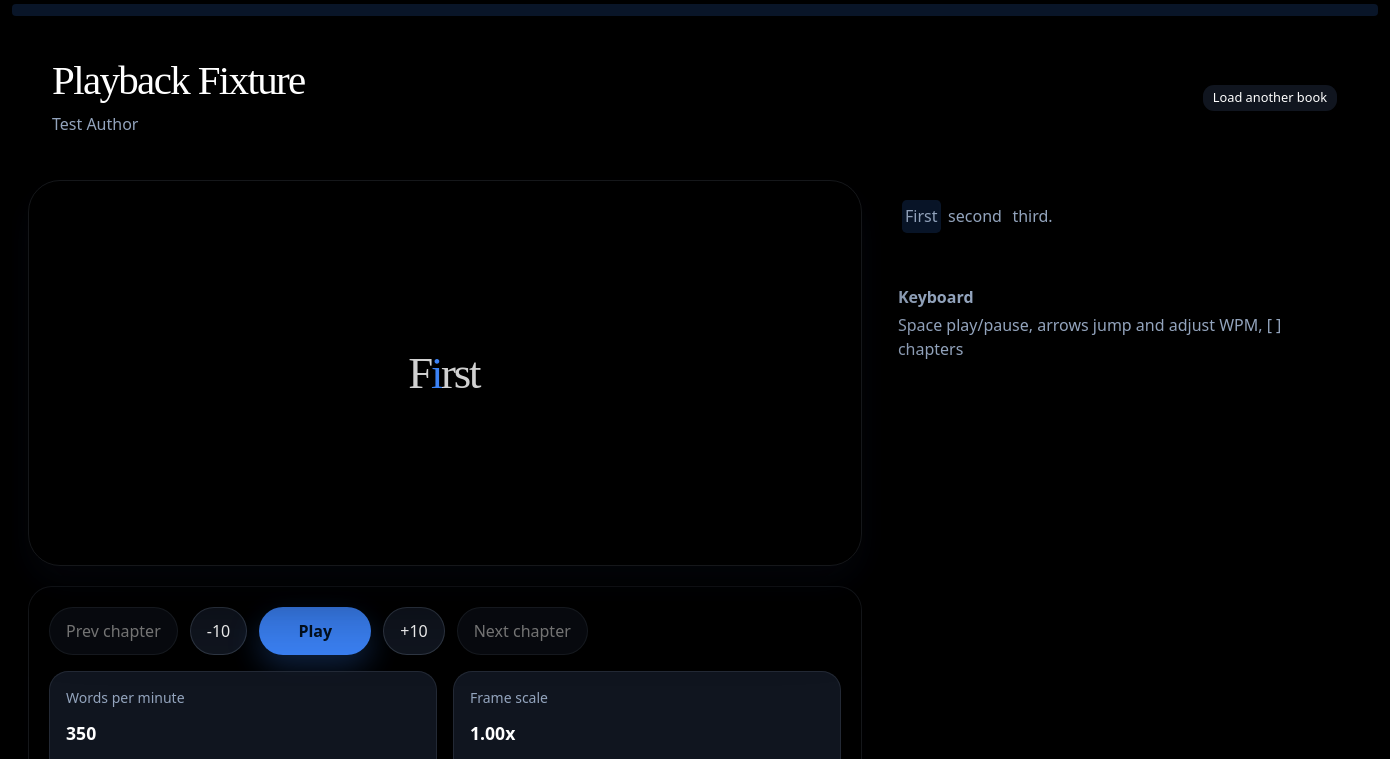
Scenario: ReaderScreen playback › advances the displayed word after play is pressed
expect the 2nd element titled "First" is shown: met, box [408,351,479,396]
Click the button "Play".
click(315, 631)  # box [259,607,371,655]
Wait 200 ms
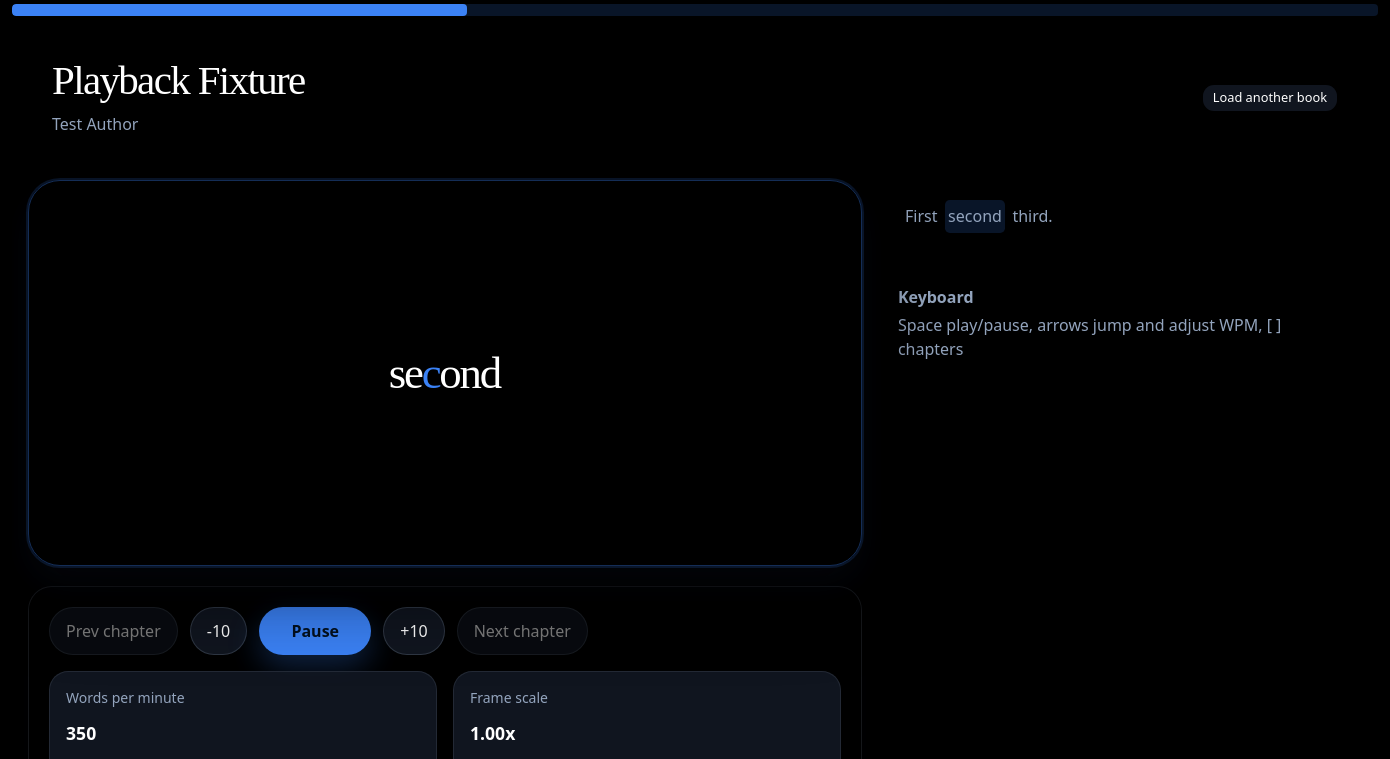
expect the element titled "second" is shown: met, box [389,351,500,396]
